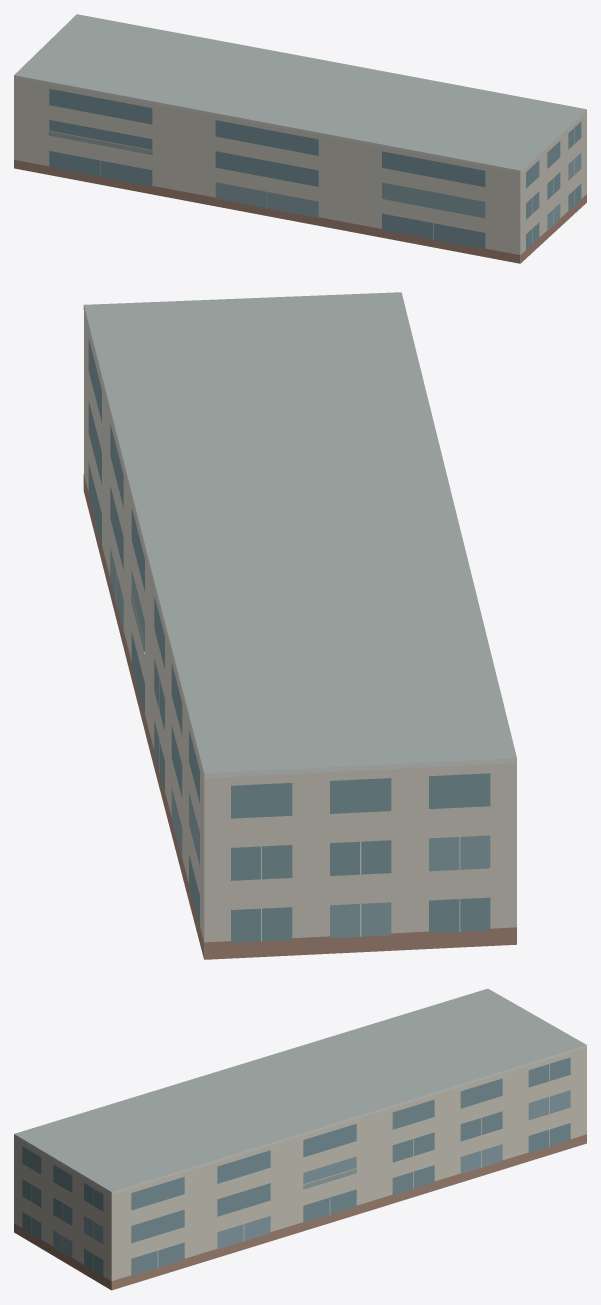
File: survey-upis-32849587.glb
3 renders of one model, top to bottom at view 1: azimuth 30°, elevation 25°; view 2: azimuth 150°, elevation 25°; view 3: azimuth 270°, elevation 25°, orthographic. The views are drawn at different scales.
Parts seen in each view (by area): view 1: survey-upis-32849587.tmp; view 2: survey-upis-32849587.tmp; view 3: survey-upis-32849587.tmp.
Part boxes in pixels (bbox=[...]): survey-upis-32849587.tmp: bbox=[14, 14, 586, 263]; survey-upis-32849587.tmp: bbox=[83, 292, 516, 959]; survey-upis-32849587.tmp: bbox=[14, 988, 586, 1290].
Bounding box in the file's own units: 40.55 × 9.15 × 48.25.
